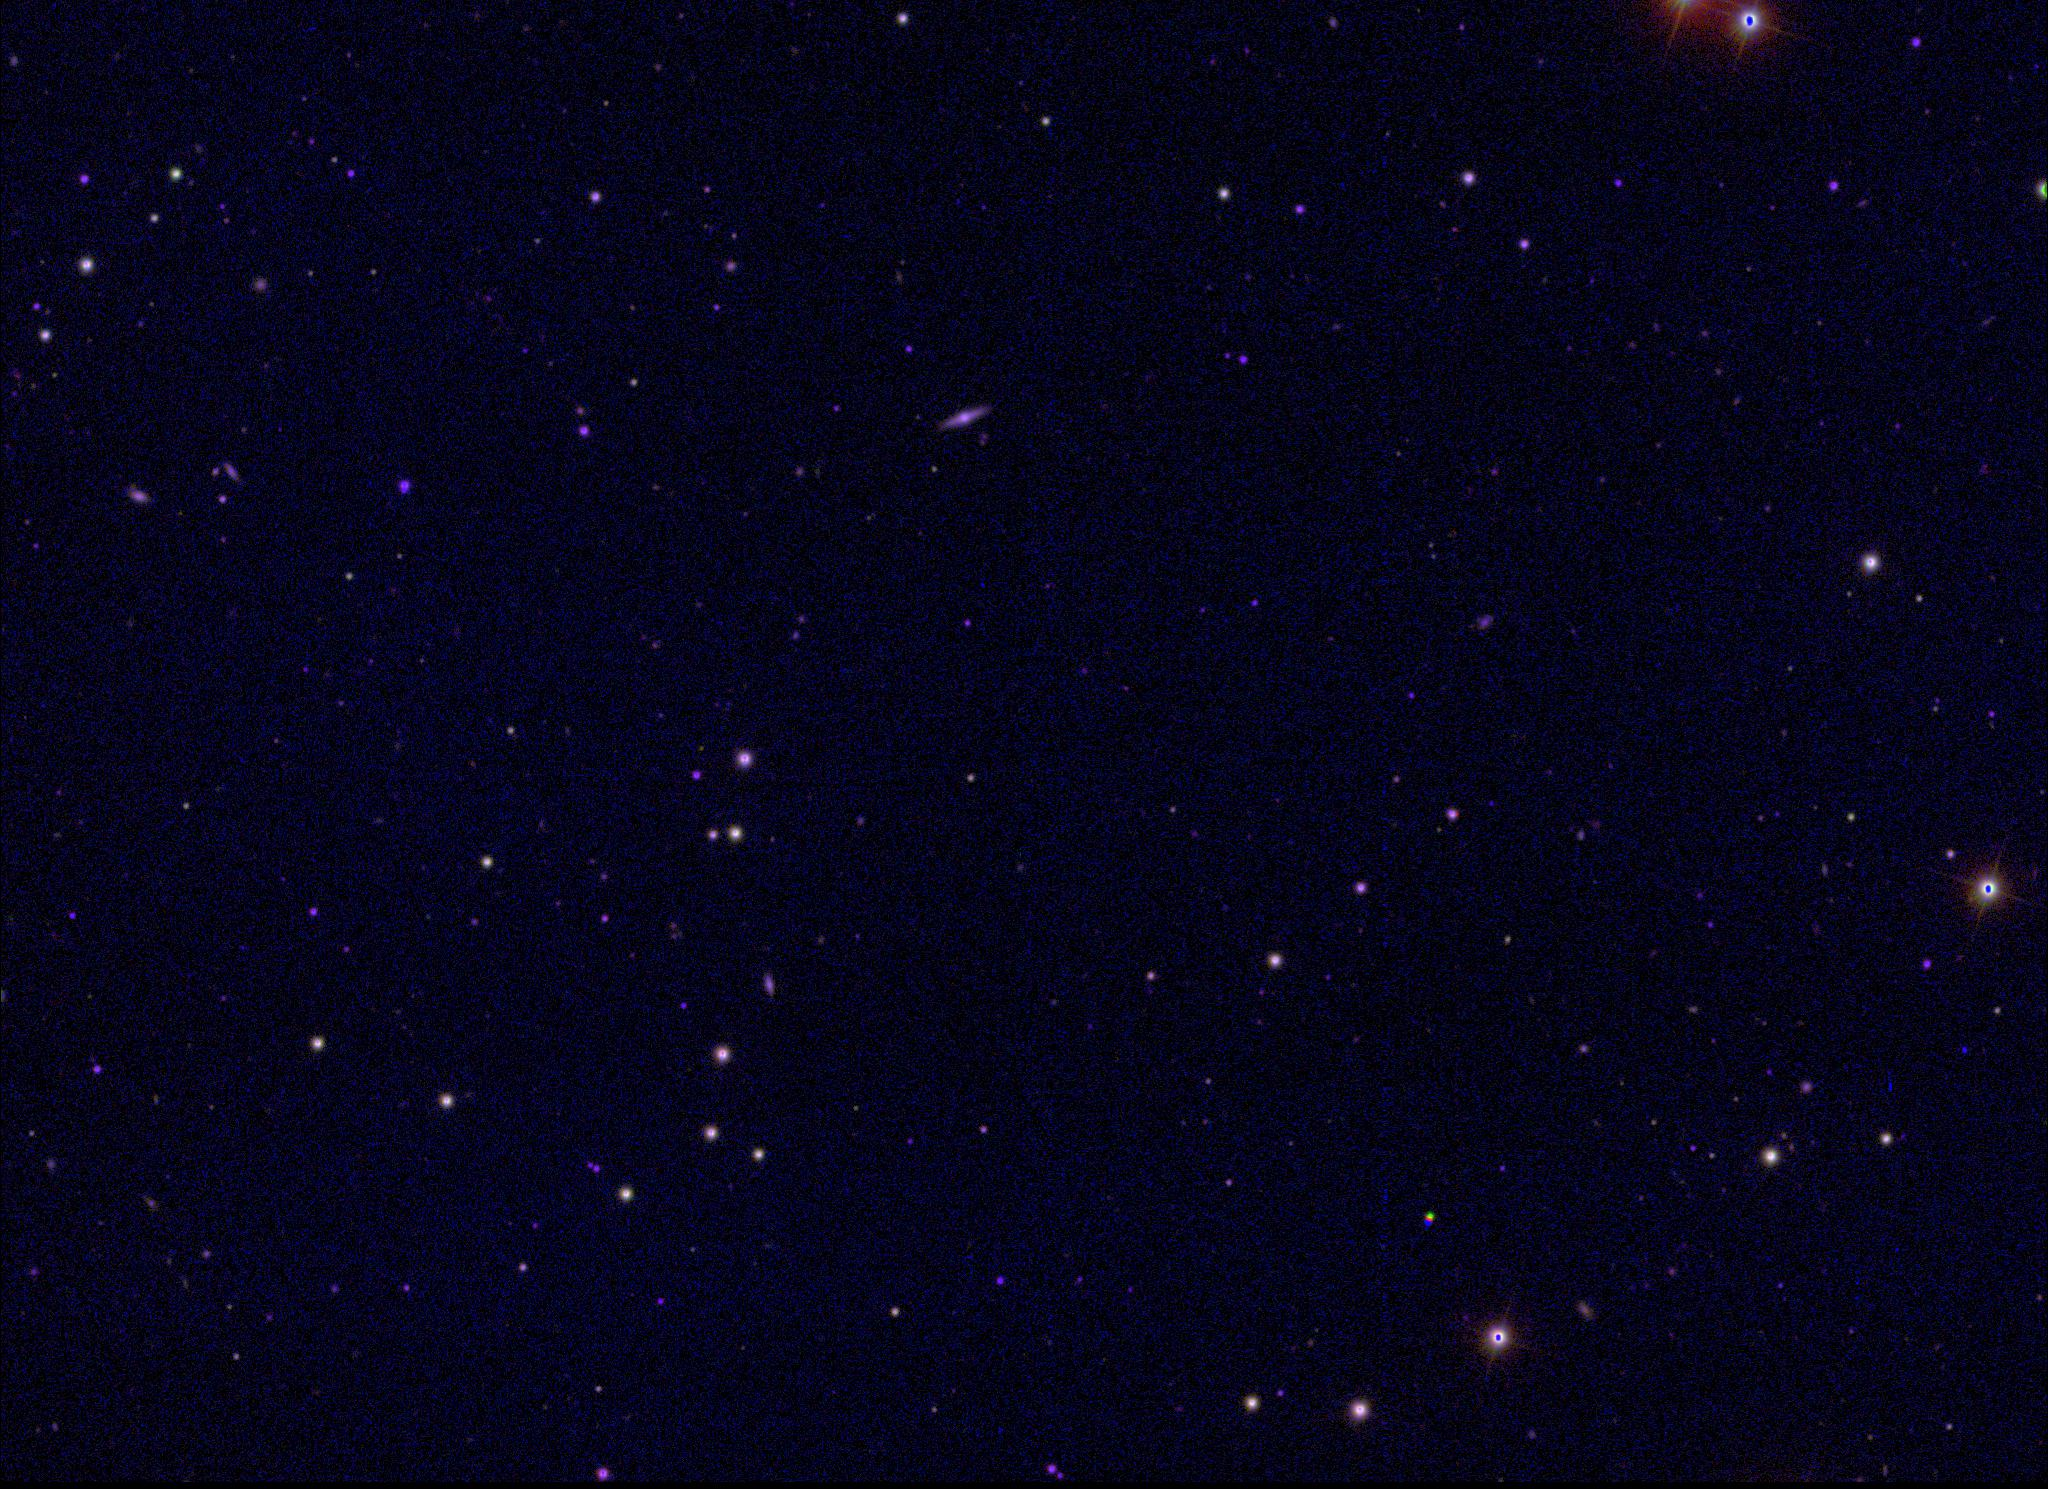L: (1957, 1044, 1972, 1056)
